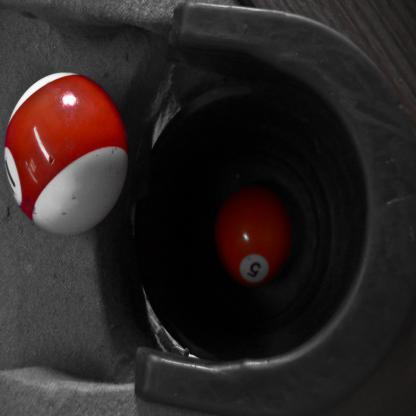Ball: (5, 72, 127, 238), (217, 188, 293, 287)
